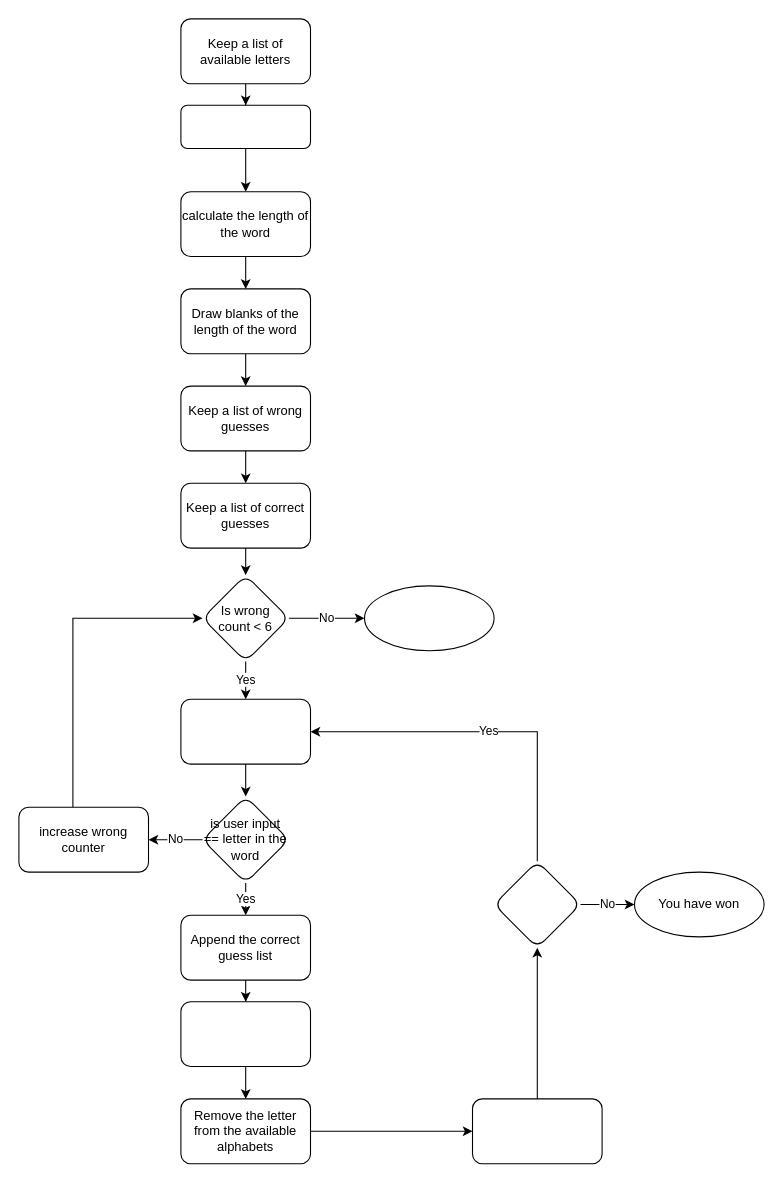
Image size: 783x1183. Some labels were removed from this diagram. Each missing label, with the box of its shape:
Any blanks left in the word?: (493, 860, 580, 948)
Fill the letter in the correct blanks: (180, 1001, 310, 1066)
Game Up: (363, 585, 494, 651)
Get input from user for a letter: (180, 698, 310, 764)
pick a word from the list of words: (180, 104, 310, 148)
Reduce number of blanks in the word: (471, 1098, 602, 1164)
